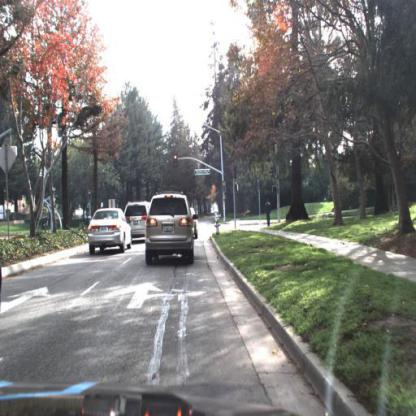car: (143, 189, 200, 266), (87, 206, 134, 254), (125, 200, 152, 238), (191, 206, 201, 241)
pedestrian: (265, 198, 273, 227)
trafficLight-Red: (222, 180, 228, 193), (173, 154, 178, 167)
